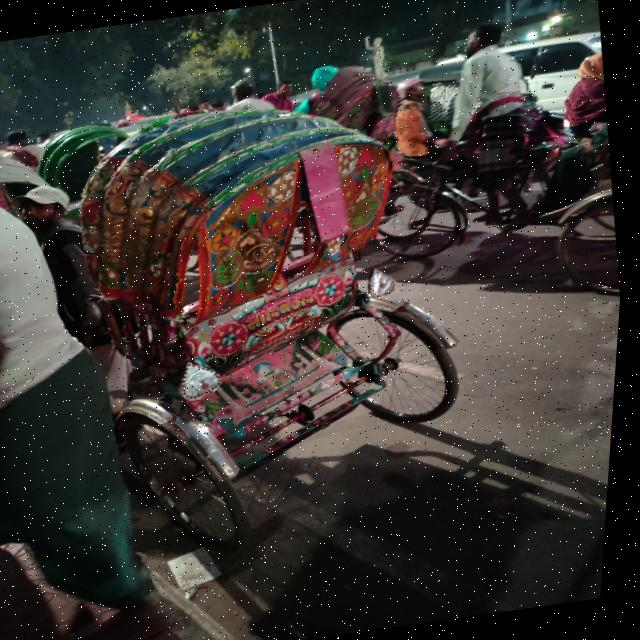rikshaw: (1, 76, 461, 547), (412, 24, 638, 314)
